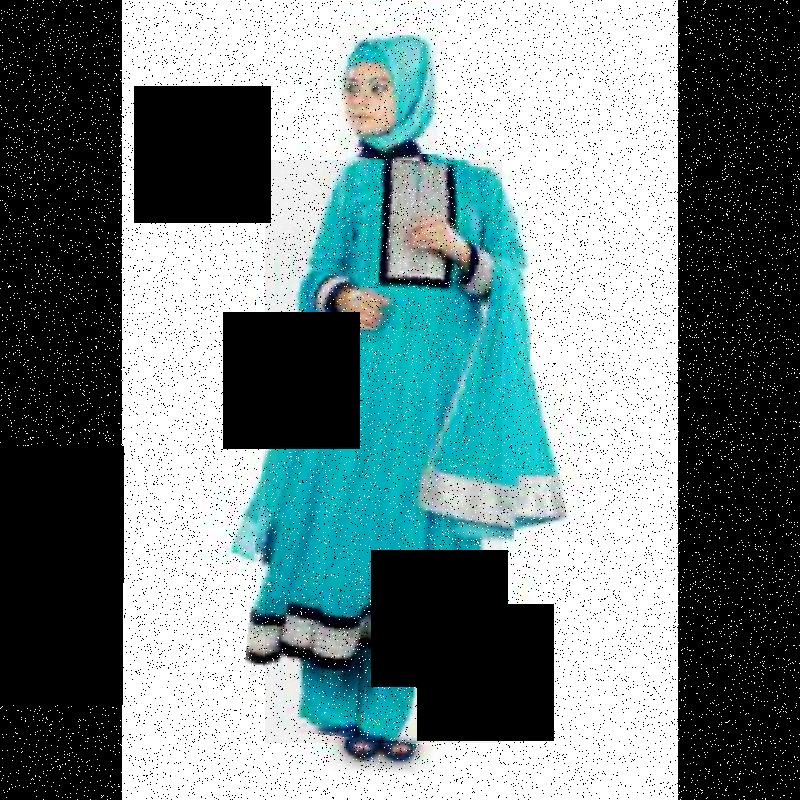Churidaar: (265, 160, 502, 743)
Hijab: (338, 35, 437, 152)
